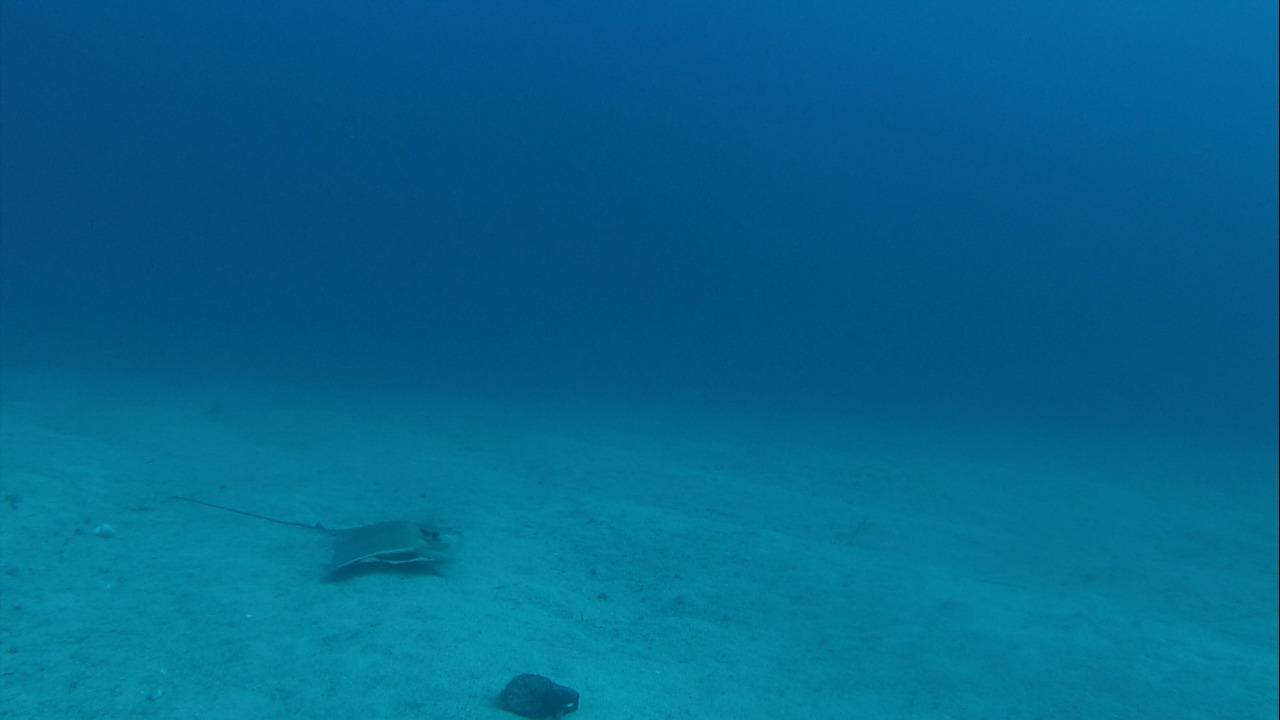myliobatis: (167, 485, 469, 589)
